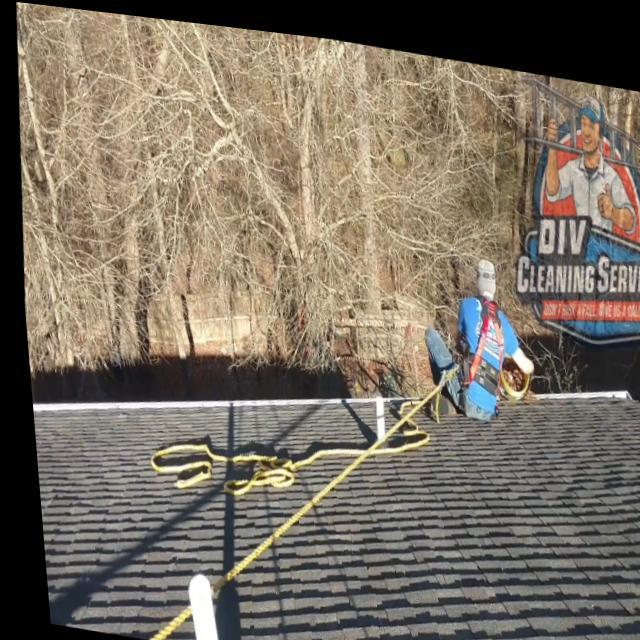belt: (439, 276, 510, 416)
